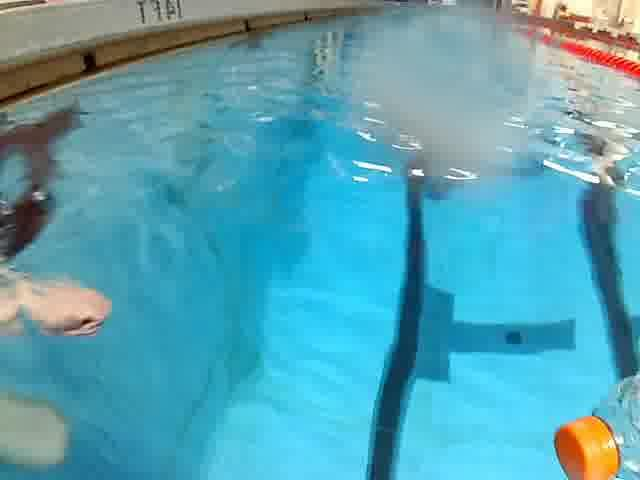Bottle: (552, 365, 640, 480)
